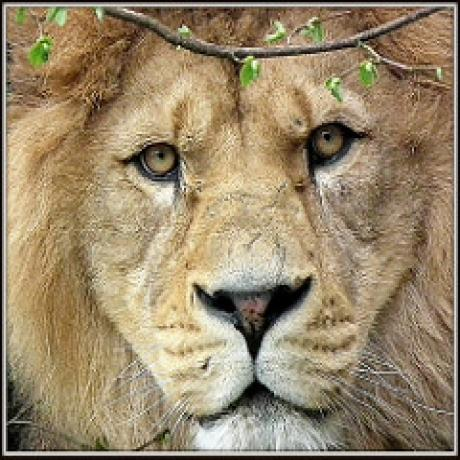Lion: (7, 8, 454, 448)
